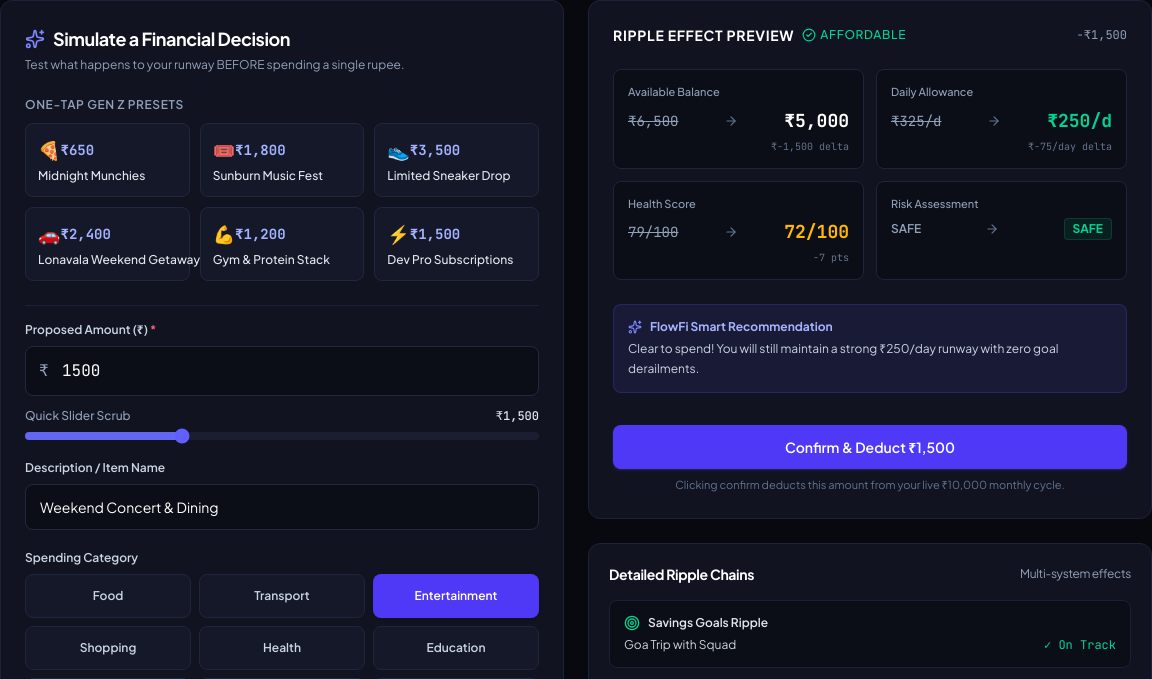
Test: Decision Simulator › updates impact preview on amount change
Replace the text in the number field labelled "Proposed Amount (₹) *" with "500": point(282, 371) top-left (25, 346), bottom-right (539, 396)
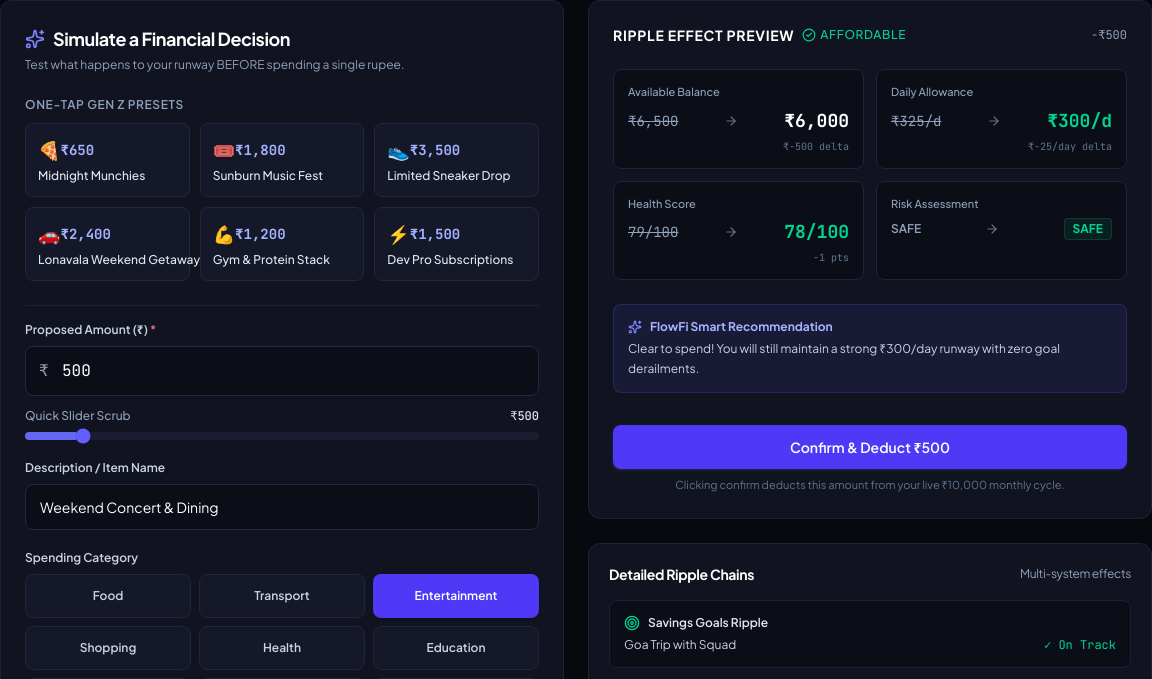
Result: the text with test id "impact-balance" reads "₹6,000" at top-left (784, 106), bottom-right (849, 134)
